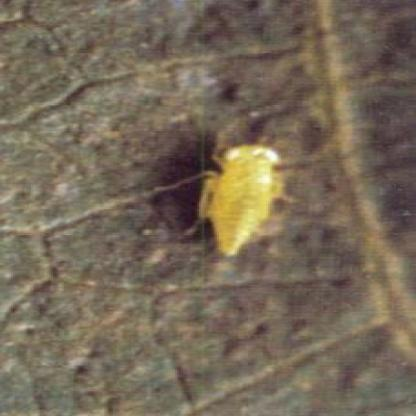Green-Leafhopper: (174, 136, 308, 262)
